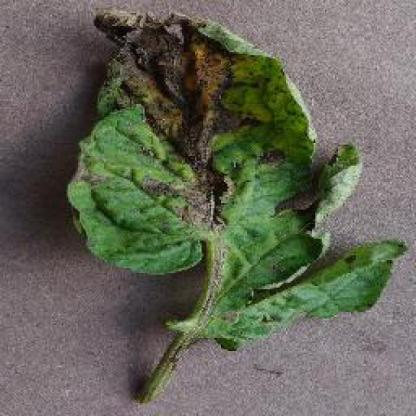Tomato_Blight: (67, 10, 401, 352)
